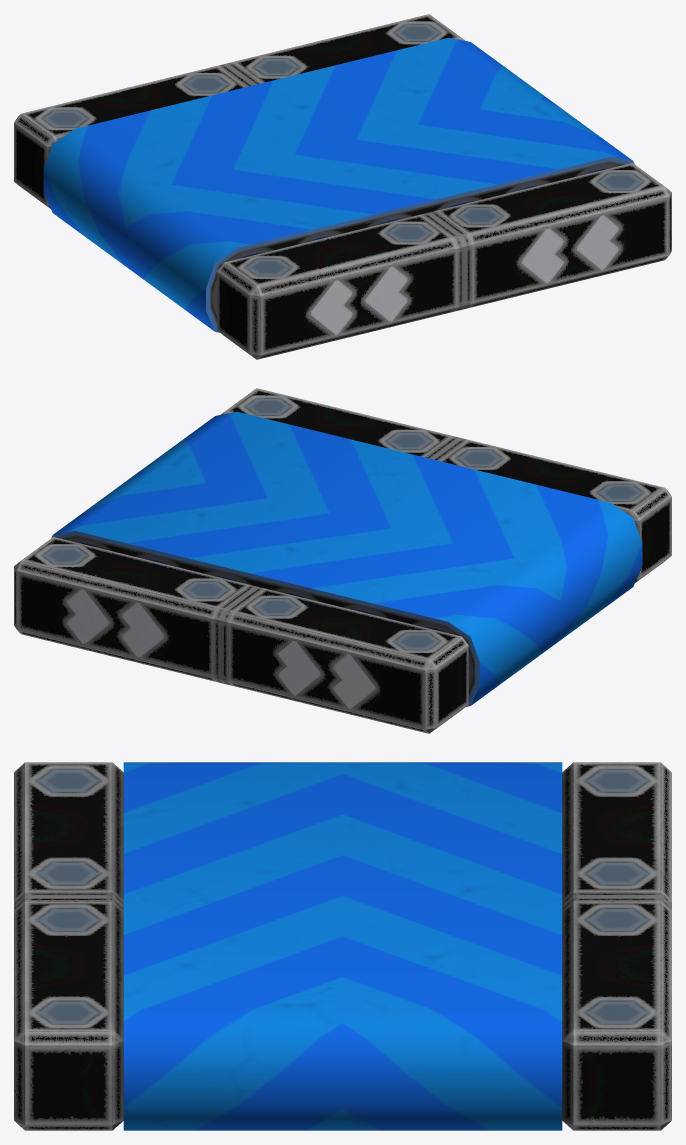
The model's file is obj_factory_belt_01_pose0.fbx.
The picture shows the model from 3 angles, top to bottom: view 1: azimuth 30°, elevation 25°; view 2: azimuth 150°, elevation 25°; view 3: azimuth 270°, elevation 25°; orthographic projection. The views are drawn at different scales.
Parts seen in each view (by area): view 1: factory_belt_01_lp; view 2: factory_belt_01_lp; view 3: factory_belt_01_lp.
Part boxes in pixels (x1=…): factory_belt_01_lp: x1=14, y1=14, x2=671, y2=359; factory_belt_01_lp: x1=14, y1=388, x2=671, y2=733; factory_belt_01_lp: x1=14, y1=762, x2=671, y2=1130.
Size of the model in its own units: 6 by 1.2 by 6.2.
